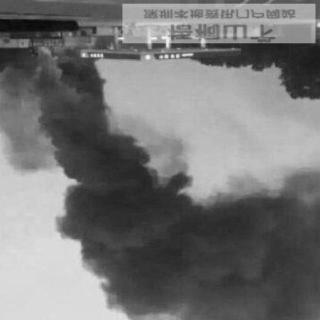Fire: (36, 35, 106, 112)
Smoke: (45, 118, 311, 316)
